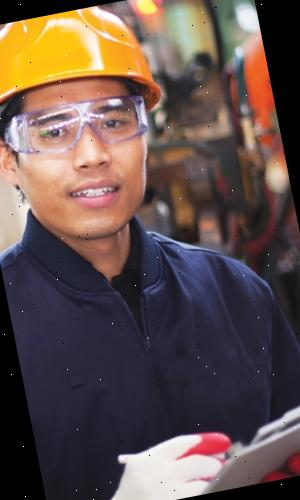helmet: (0, 0, 164, 137)
no_wear: (1, 219, 300, 500)
